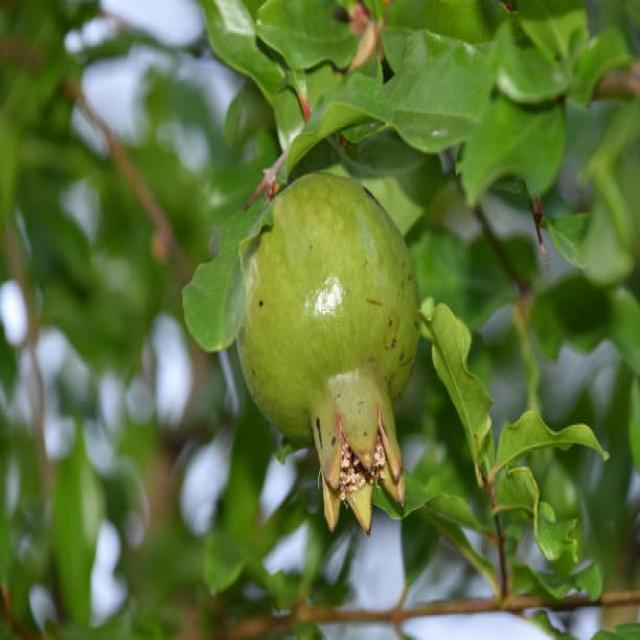Unripe: (238, 165, 420, 536)
